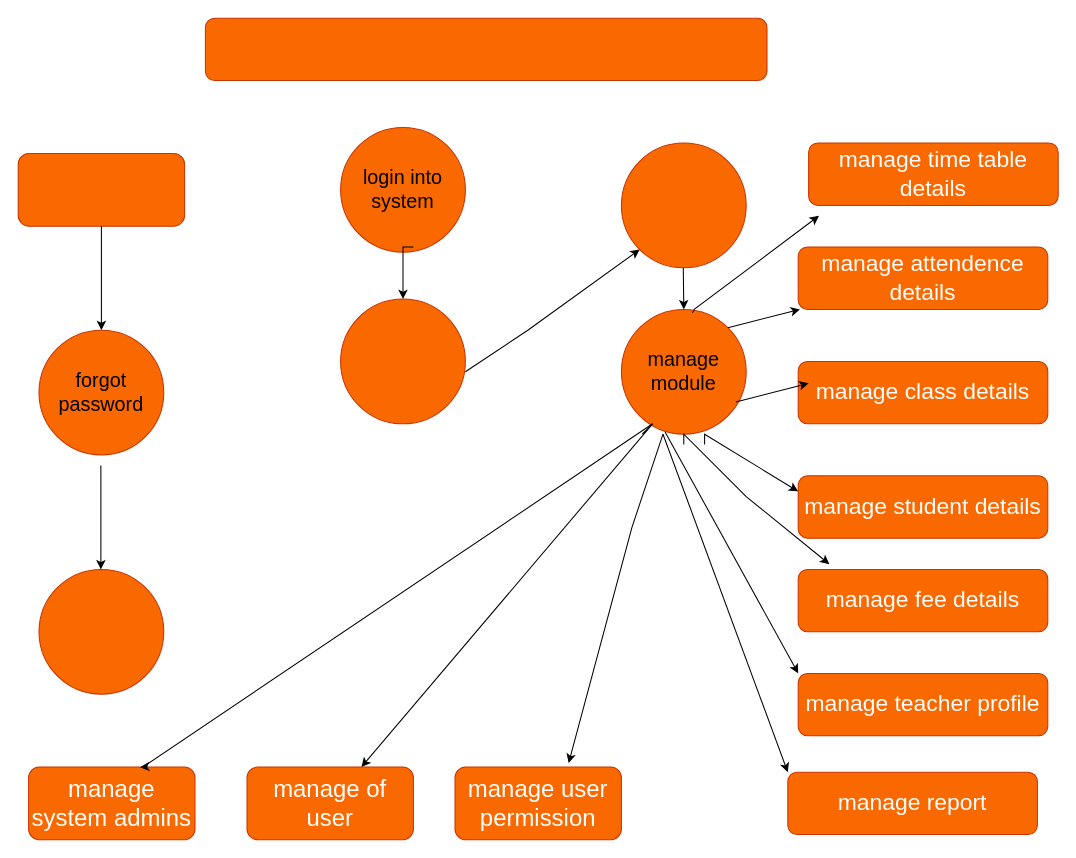
The diagram is 1076 pixels wide and 858 high, and some of its shapes have lost their labels. The shapes that lost their labels are listed below. From the top down, each one's centre as x and y in pixels, then its label:
At point 485,49: "student information system".
At point 101,189: "admin".
At point 683,205: "check roles of access".
At point 402,361: "check creditenals".
At point 101,631: "send Email to user".
